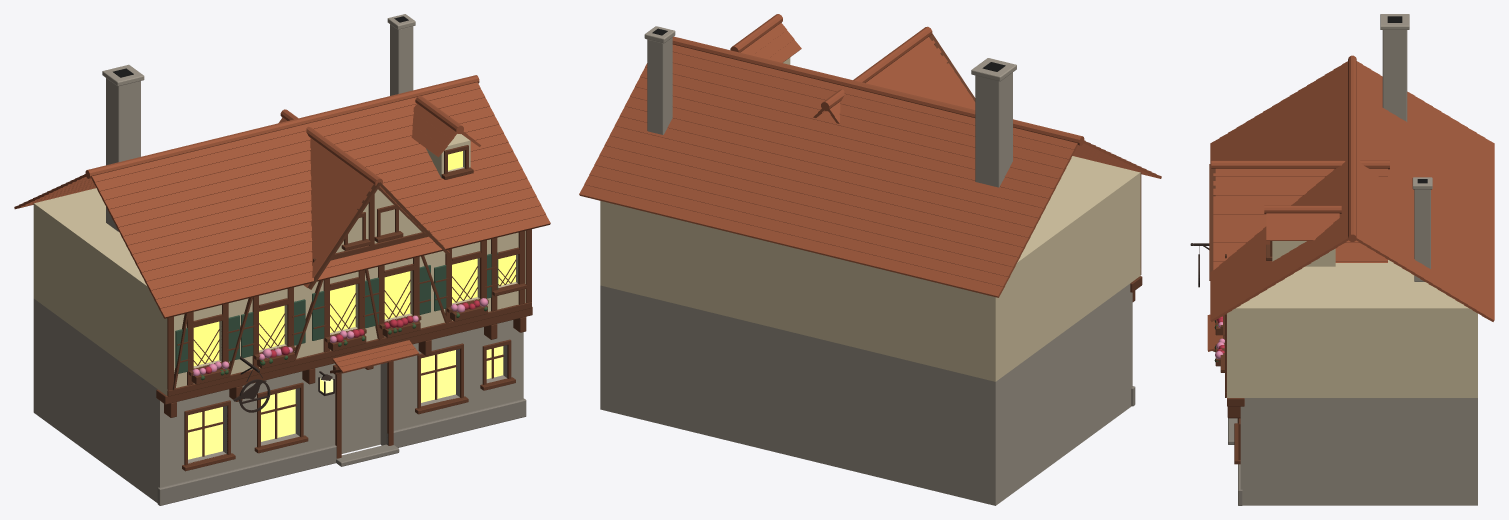
The model's file is taberna.glb.
3 renders of one model, left to right at view 1: azimuth 30°, elevation 25°; view 2: azimuth 150°, elevation 25°; view 3: azimuth 270°, elevation 25°, orthographic. The views are drawn at different scales.
Visible parts, largest first — view 1: pb_dentro, pa_dentro, tejado_s_0, tejado_s_14, tejado_s_13, tejado_s_1, tejado_s_12, zocalo, tejado_s_11, tejado_s_6, tejado_s_5, tejado_cumbrera (+44 smaller); view 2: pb_dentro, pa_dentro, tejado_n_0, tejado_n_6, tejado_n_4, tejado_n_5, tejado_n_1, tejado_n_3, tejado_n_2, tejado_n_7, tejado_n_8, tejado_n_9 (+15 smaller); view 3: pa_dentro, pb_dentro, chimenea, tejado_n_0, tejado_n_5, tejado_n_4, tejado_n_14, tejado_n_13, tejado_n_9, tejado_cumbrera, tejado_s_14, tejado_n_2 (+45 smaller).
Part boxes in pixels (x1,y1,x2,y2): pb_dentro: [33, 299, 380, 499]; pa_dentro: [33, 188, 161, 391]; tejado_s_0: [158, 214, 550, 318]; tejado_s_14: [93, 88, 484, 191]; tejado_s_13: [97, 97, 489, 201]; tejado_s_1: [153, 205, 545, 308]; tejado_s_12: [102, 106, 494, 209]; zocalo: [157, 445, 336, 505]; tejado_s_11: [107, 115, 498, 219]; tejado_s_6: [130, 160, 522, 263]; tejado_s_5: [135, 169, 527, 272]; tejado_cumbrera: [85, 75, 479, 178]; pb_dentro: [600, 285, 1125, 505]; pa_dentro: [600, 161, 1134, 381]; tejado_n_0: [579, 185, 1005, 297]; tejado_n_6: [609, 126, 1035, 238]; tejado_n_4: [599, 145, 1025, 257]; tejado_n_5: [604, 136, 1030, 248]; tejado_n_1: [584, 175, 1010, 286]; tejado_n_3: [594, 155, 1020, 267]; tejado_n_2: [589, 165, 1015, 276]; tejado_n_7: [614, 116, 1040, 228]; tejado_n_8: [620, 106, 1045, 218]; tejado_n_9: [625, 96, 1050, 208]; pa_dentro: [1236, 260, 1477, 397]; pb_dentro: [1253, 398, 1477, 505]; chimenea: [1382, 30, 1407, 121]; tejado_n_0: [1482, 139, 1494, 321]; tejado_n_5: [1438, 112, 1450, 294]; tejado_n_4: [1446, 118, 1459, 300]; tejado_n_14: [1359, 65, 1371, 247]; tejado_n_13: [1367, 70, 1380, 252]; tejado_n_9: [1402, 91, 1415, 274]; tejado_cumbrera: [1348, 55, 1356, 241]; tejado_s_14: [1333, 65, 1345, 247]; tejado_n_2: [1464, 128, 1476, 311].
Size of the model in its own units: 10.7 by 9.48 by 7.69.
